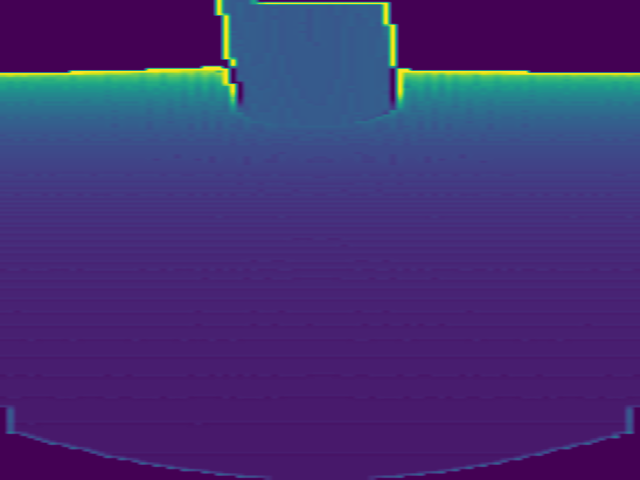cylinder: (213, 1, 402, 124)
